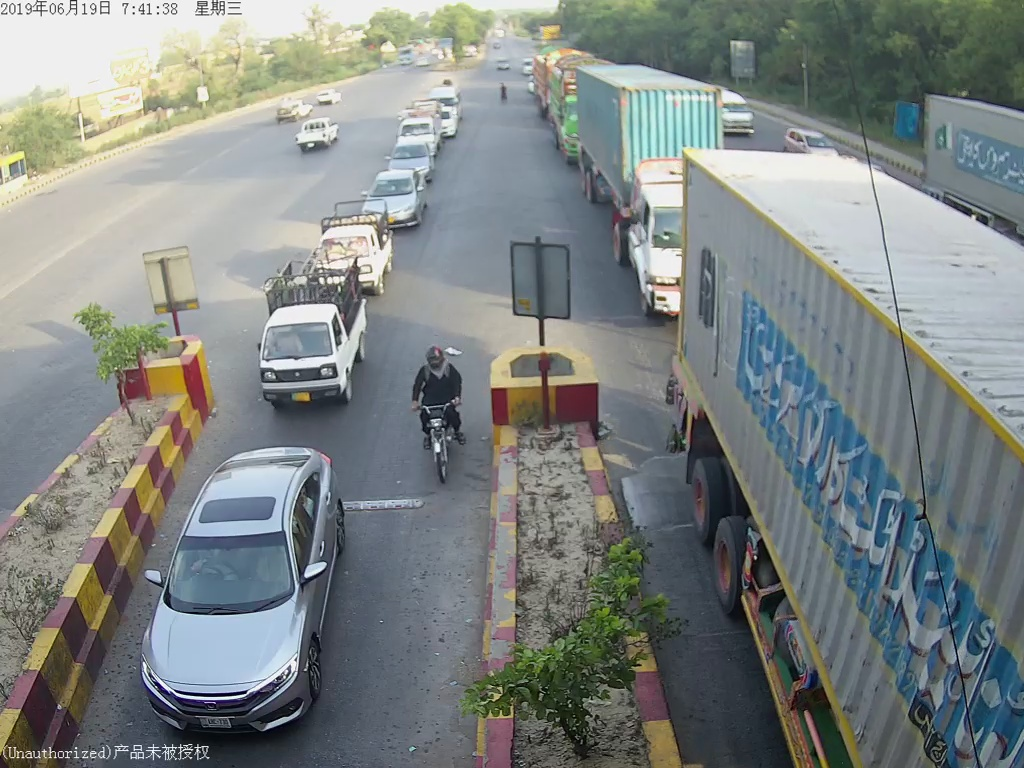Cat-1: (138, 458, 339, 722), (258, 280, 380, 410), (387, 144, 438, 173)
